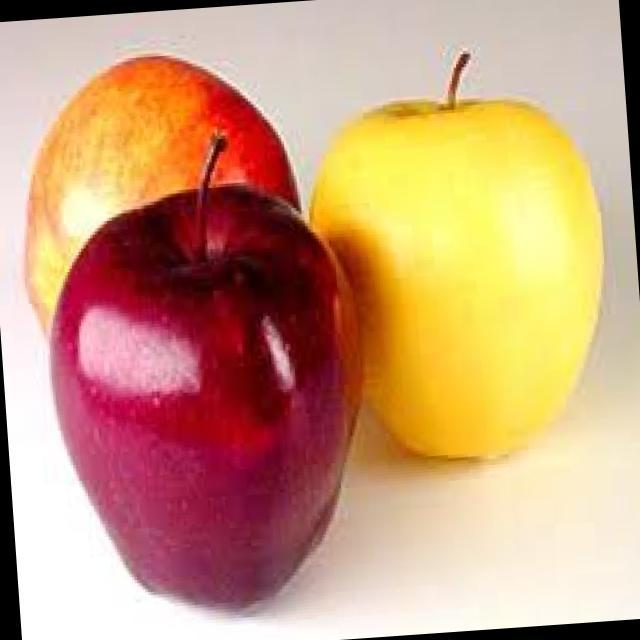Apple: (25, 155, 382, 630), (300, 26, 624, 488), (0, 30, 300, 323)
